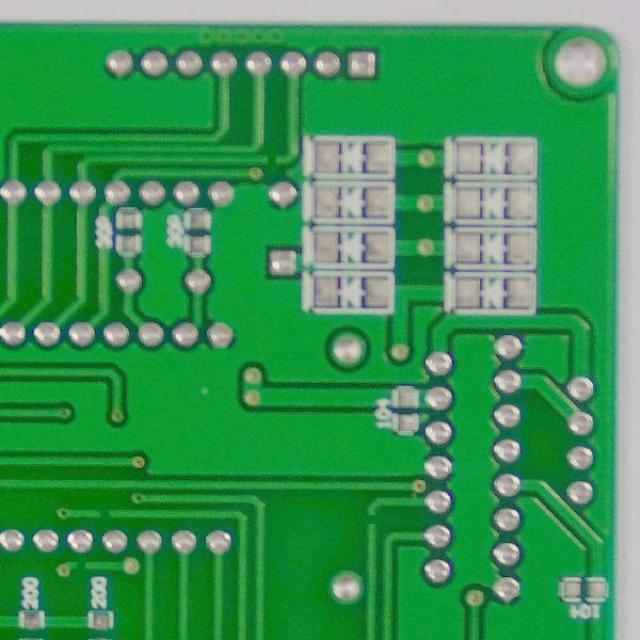Open_Circuit: (256, 147, 287, 172), (361, 504, 384, 534), (88, 503, 122, 522), (68, 555, 94, 574)
